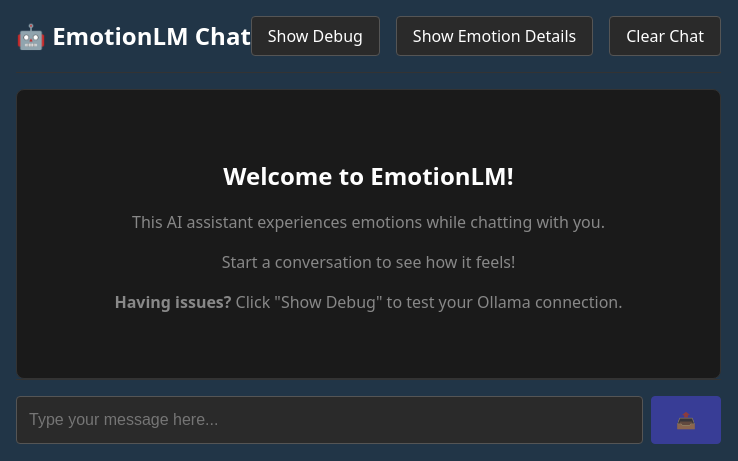
Test: ChatInterface › should enable send button when input has text
Type "Hello!" into the field with placeholder "Type your message here..." at point(330, 420), box [16,396,643,444]
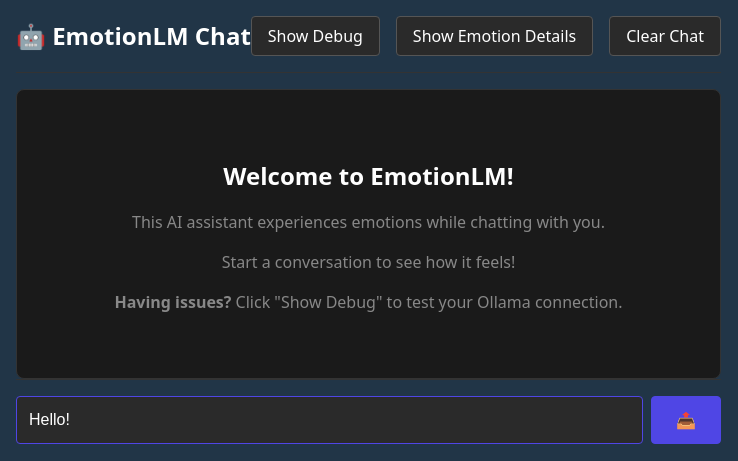
Expected: the button "📤" is enabled, [651,396,721,444]
